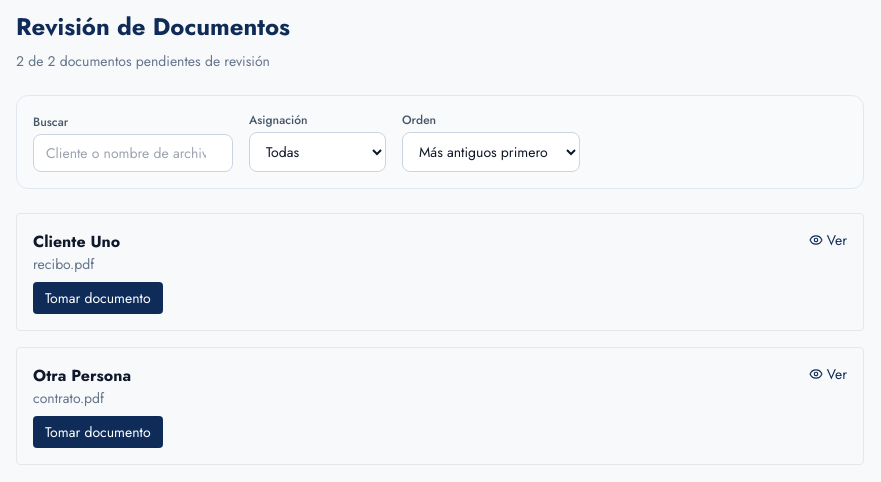
Test: AgentDocumentsPanel › filtra por búsqueda de cliente o archivo
Expected: the text "recibo.pdf" is shown, left=33, top=254, right=94, bottom=274
Type "contrato" into the search field labelled "Buscar".
click(133, 153); type("contrato")  # box left=33, top=134, right=233, bottom=172
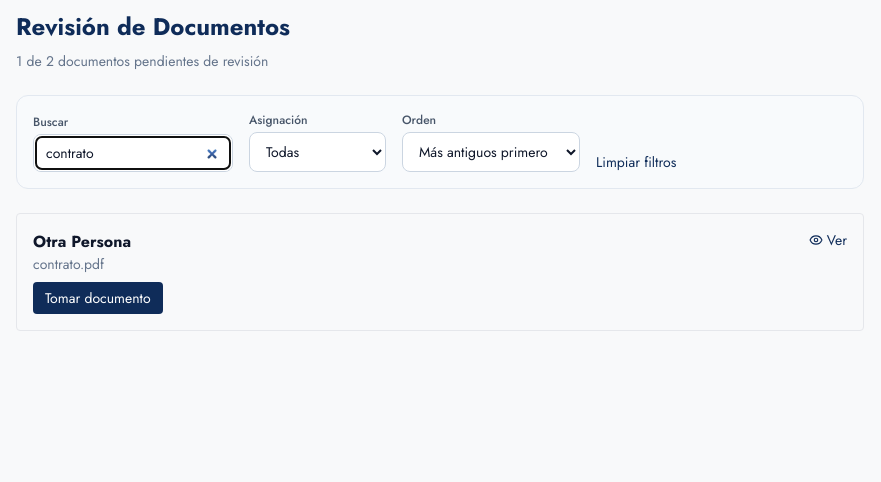
Expected: the text "contrato.pdf" is shown, left=33, top=254, right=104, bottom=274
Result: the text "recibo.pdf" is gone
